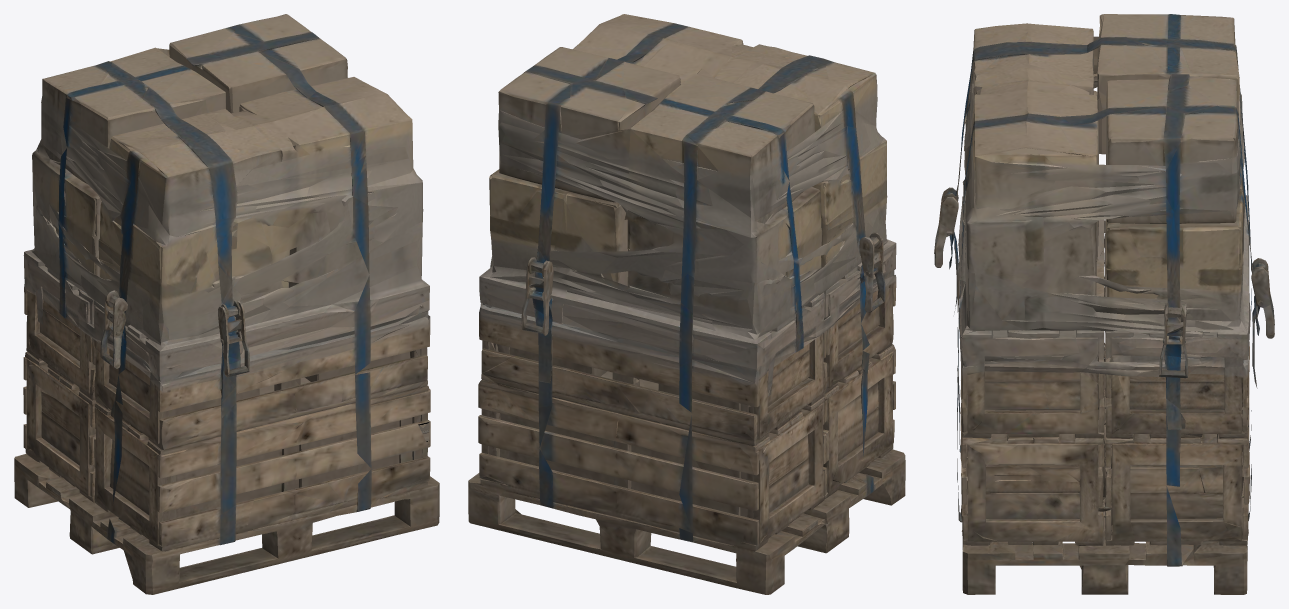
The model's file is palettes.glb.
The picture shows the model from 3 angles, left to right: view 1: azimuth 30°, elevation 25°; view 2: azimuth 150°, elevation 25°; view 3: azimuth 270°, elevation 25°; orthographic projection. The views are drawn at different scales.
Visible parts, largest first — view 1: output_unwrapped; view 2: output_unwrapped; view 3: output_unwrapped.
Part boxes in pixels (<box>): output_unwrapped: <box>14,14,439,594</box>; output_unwrapped: <box>468,14,905,594</box>; output_unwrapped: <box>934,14,1274,594</box>.
Bounding box in the file's own units: 1.43 × 1.9 × 1.32.
1 material, 1 textured.
